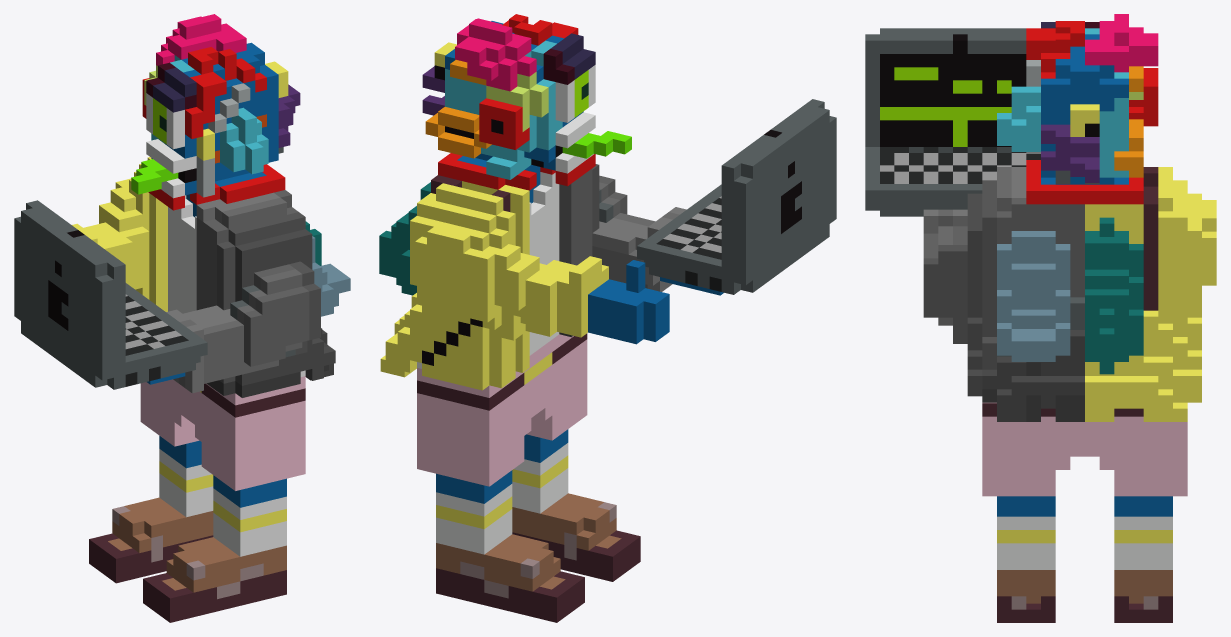
The model's file is robot_the.glb.
3 renders of one model, left to right at view 1: azimuth 30°, elevation 25°; view 2: azimuth 150°, elevation 25°; view 3: azimuth 270°, elevation 25°, orthographic. The views are drawn at different scales.
Parts seen in each view (by area): view 1: unnamed_mesh1; view 2: unnamed_mesh1; view 3: unnamed_mesh1.
Boxes of the visible parts, bbox=[...] form: unnamed_mesh1: bbox=[14, 14, 350, 622]; unnamed_mesh1: bbox=[379, 14, 836, 622]; unnamed_mesh1: bbox=[865, 14, 1216, 622].
Bounding box in the file's own units: 28 × 44 × 24.
1 material, 1 textured.
